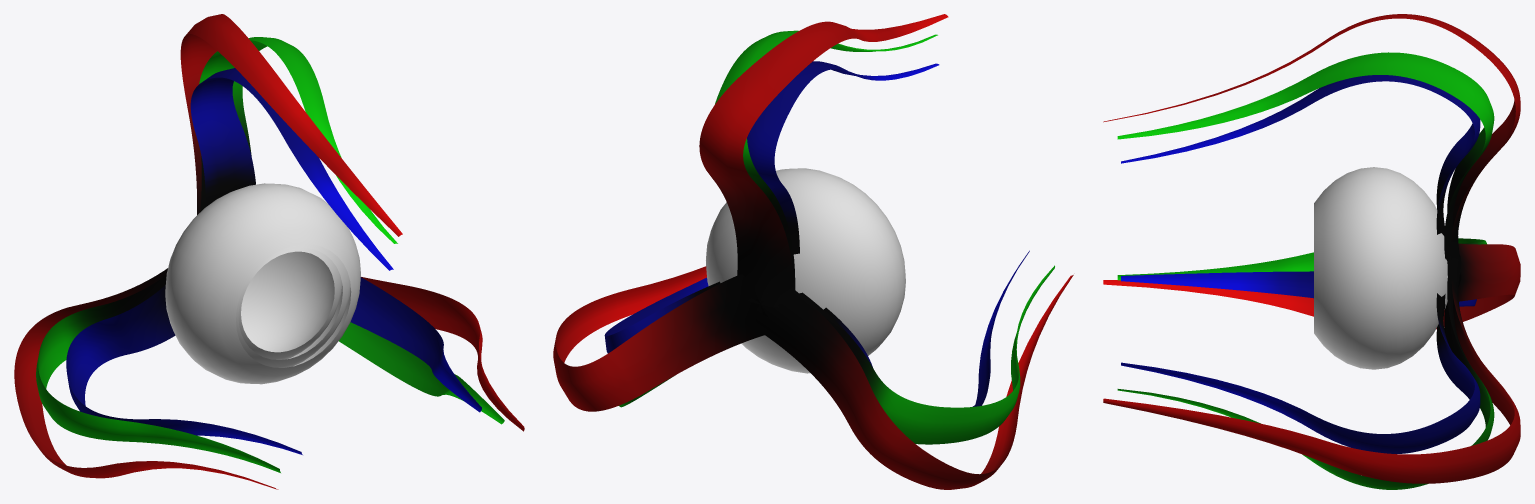
Rendered from enemy three.fbx.
3 views of the same model, side by side, from view 1: azimuth 30°, elevation 25°; view 2: azimuth 150°, elevation 25°; view 3: azimuth 270°, elevation 25° (orthographic). The views are drawn at different scales.
Parts seen in each view (by area): view 1: Arms, Body; view 2: Arms, Body; view 3: Arms, Body.
Part boxes in pixels (box(x1,y1,x2,y2)): Arms: box(14, 14, 524, 489); Body: box(165, 183, 360, 384); Arms: box(553, 14, 1073, 489); Body: box(706, 168, 905, 373); Arms: box(1103, 14, 1520, 489); Body: box(1314, 167, 1447, 369).
Bounding box in the file's own units: 291 × 267 × 255.
